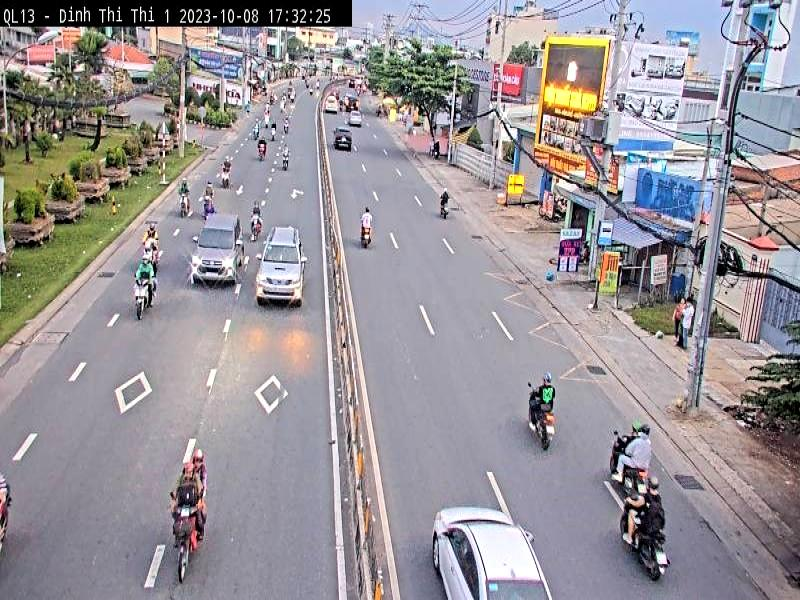car: (426, 496, 553, 598), (181, 206, 248, 288), (251, 221, 309, 315), (332, 120, 353, 156), (322, 91, 340, 119), (349, 106, 364, 131)
motorcycle: (154, 491, 215, 589)
